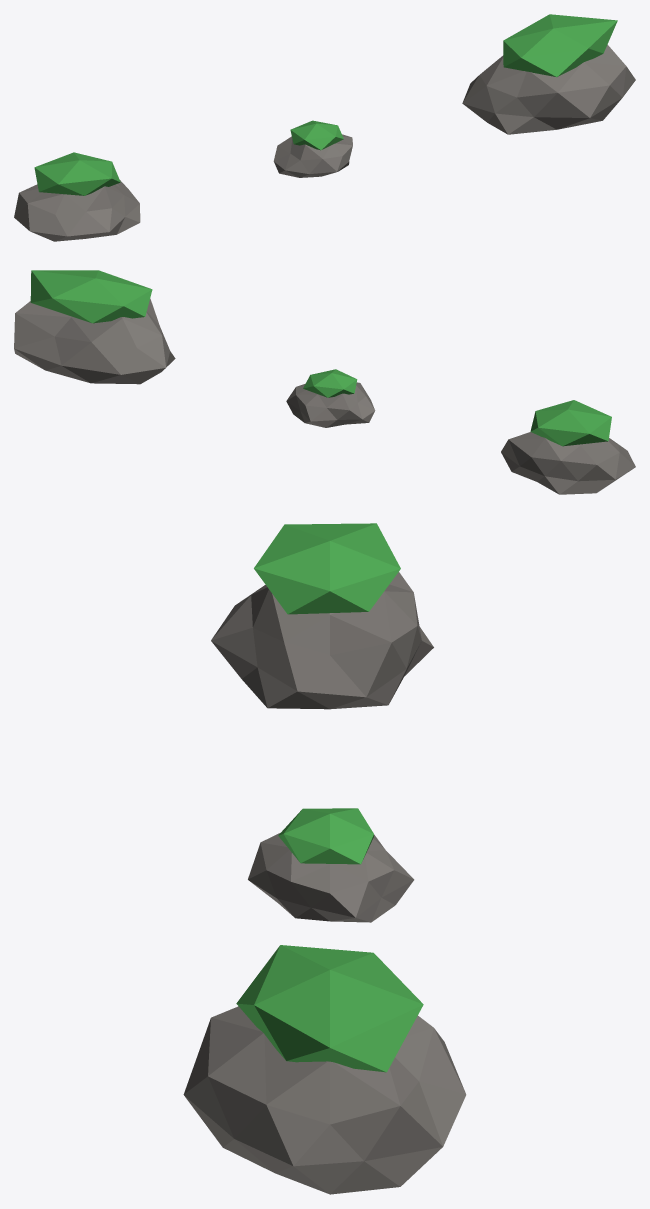
Rendered from batu_lumut_v001.glb.
3 views of the same model, one above another, from view 1: azimuth 30°, elevation 25°; view 2: azimuth 150°, elevation 25°; view 3: azimuth 270°, elevation 25° (orthographic). The views are drawn at different scales.
Visible parts, largest first — view 1: Batu_Lumut_C, Batu_Lumut_A, Batu_Lumut_B; view 2: Batu_Lumut_C, Batu_Lumut_A, Batu_Lumut_B; view 3: Batu_Lumut_C, Batu_Lumut_A, Batu_Lumut_B.
Part boxes in pixels (x1,y1,x2,y2): Batu_Lumut_C: (462,14,635,134); Batu_Lumut_A: (14,152,140,241); Batu_Lumut_B: (273,120,352,177); Batu_Lumut_C: (14,270,175,384); Batu_Lumut_A: (501,400,635,494); Batu_Lumut_B: (286,369,375,427); Batu_Lumut_C: (183,945,466,1194); Batu_Lumut_A: (211,523,433,709); Batu_Lumut_B: (248,808,414,922).
Bounding box in the file's own units: 6.65 × 0.8194 × 1.35.
